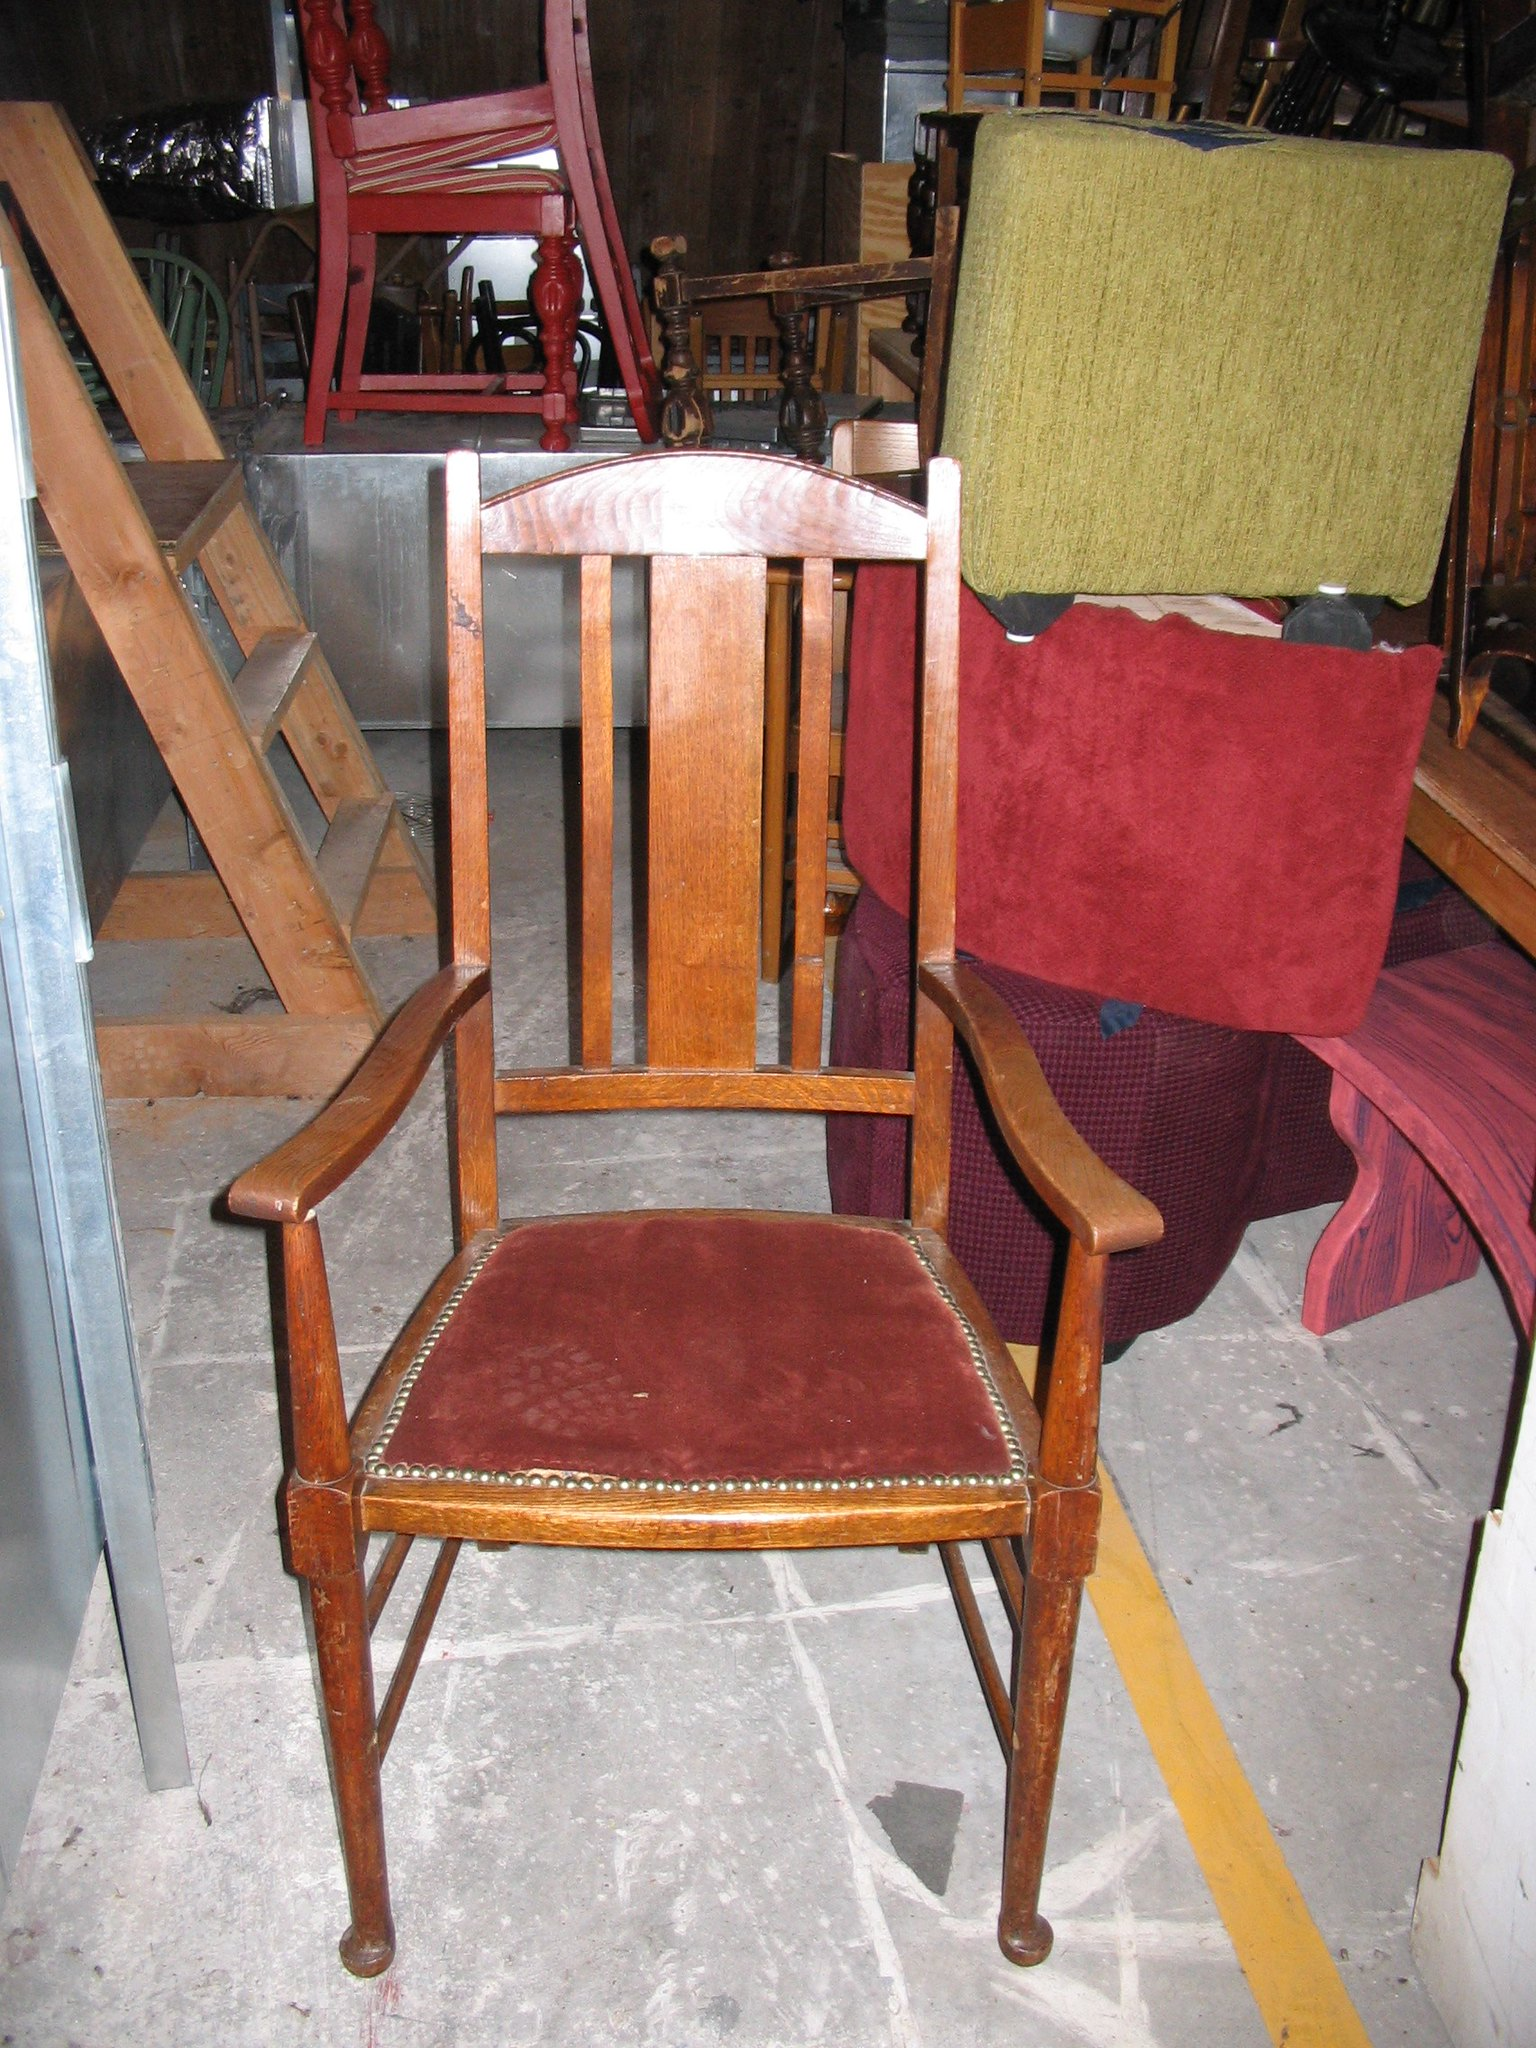chair: (294, 452, 1097, 1990)
